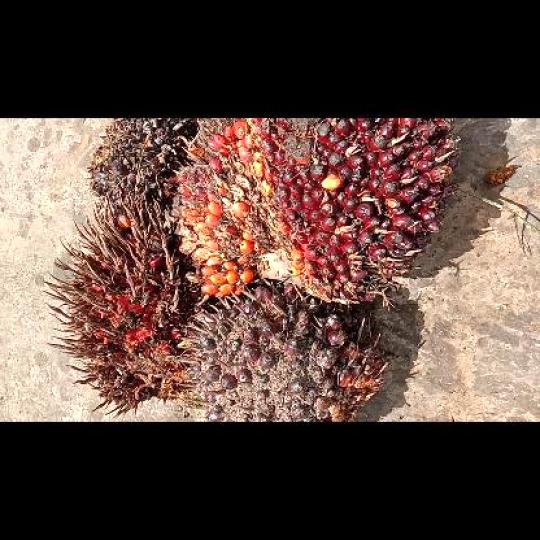kurang masak: (181, 285, 390, 421)
masak: (173, 118, 460, 303)
terlalu masak: (49, 190, 192, 418)
